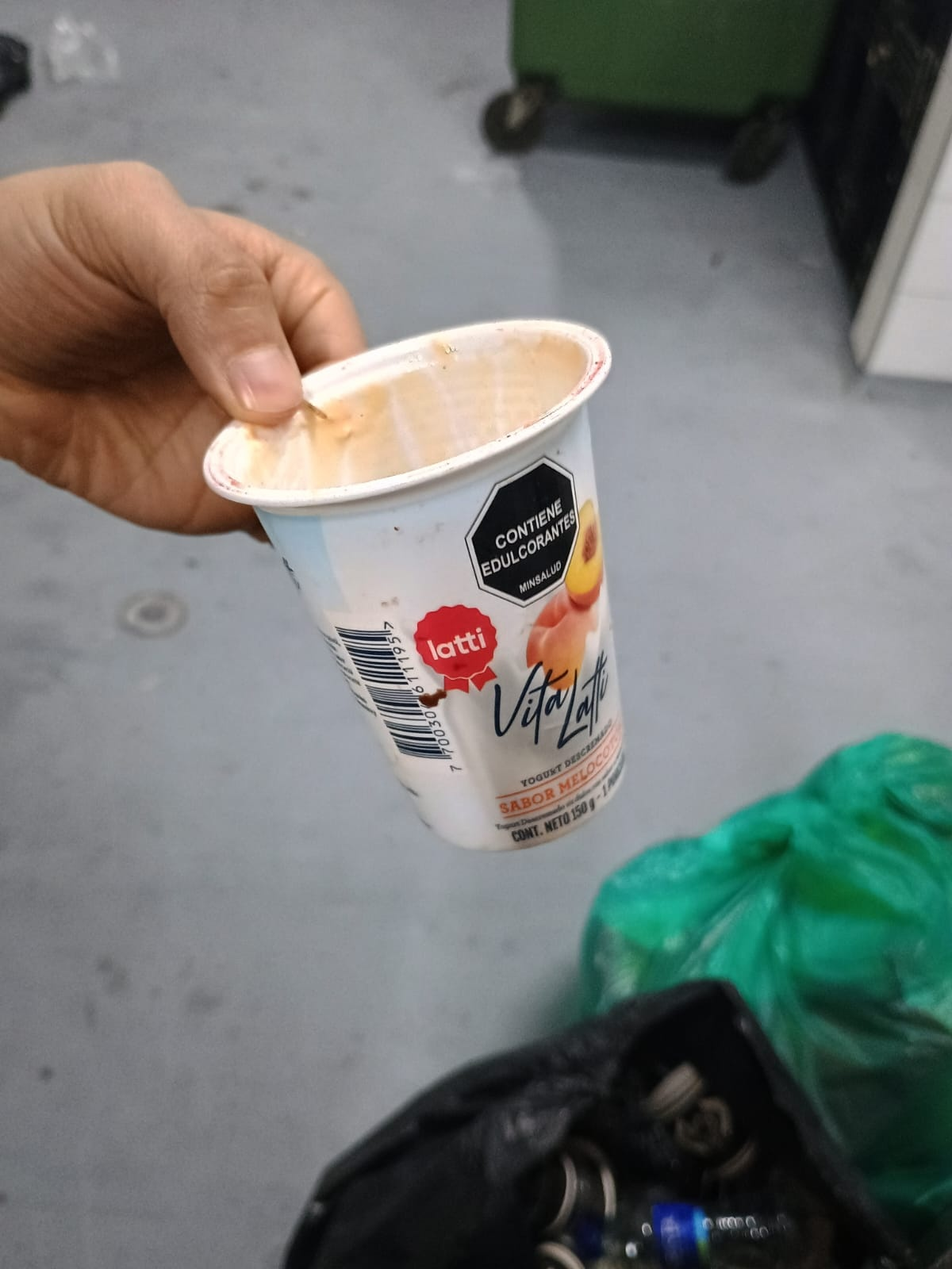Plastico: (202, 319, 632, 851)
